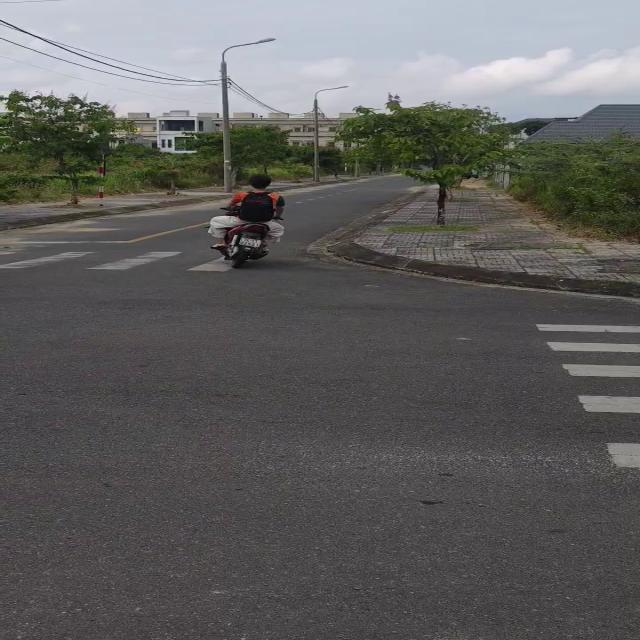no_helmet: (250, 174, 274, 195)
